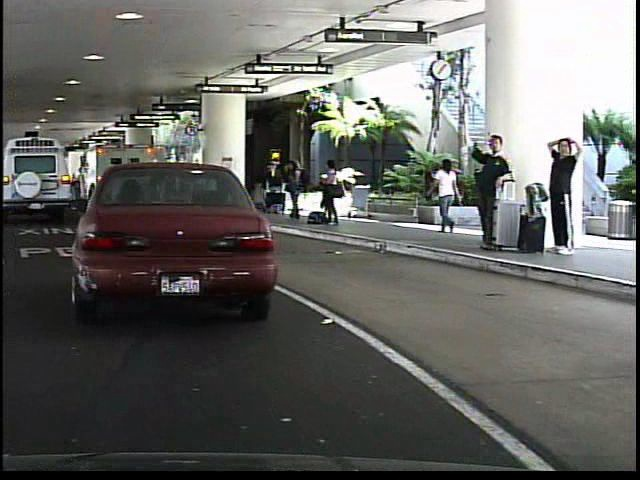person: (466, 130, 511, 251), (543, 126, 581, 255), (424, 154, 463, 235), (317, 157, 343, 226)
